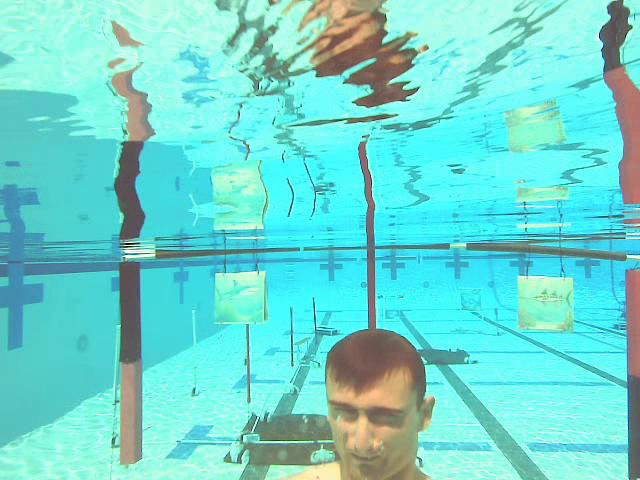black_poster: (246, 324, 249, 403), (291, 307, 294, 366), (313, 297, 316, 328)
divider: (368, 216, 375, 327)
left_gate_poster: (121, 263, 139, 465)
right_gate_poster: (628, 269, 640, 476)
shark: (215, 271, 268, 324)
swordfish: (518, 276, 573, 331)
white_poster: (111, 324, 119, 447), (192, 310, 197, 396)
